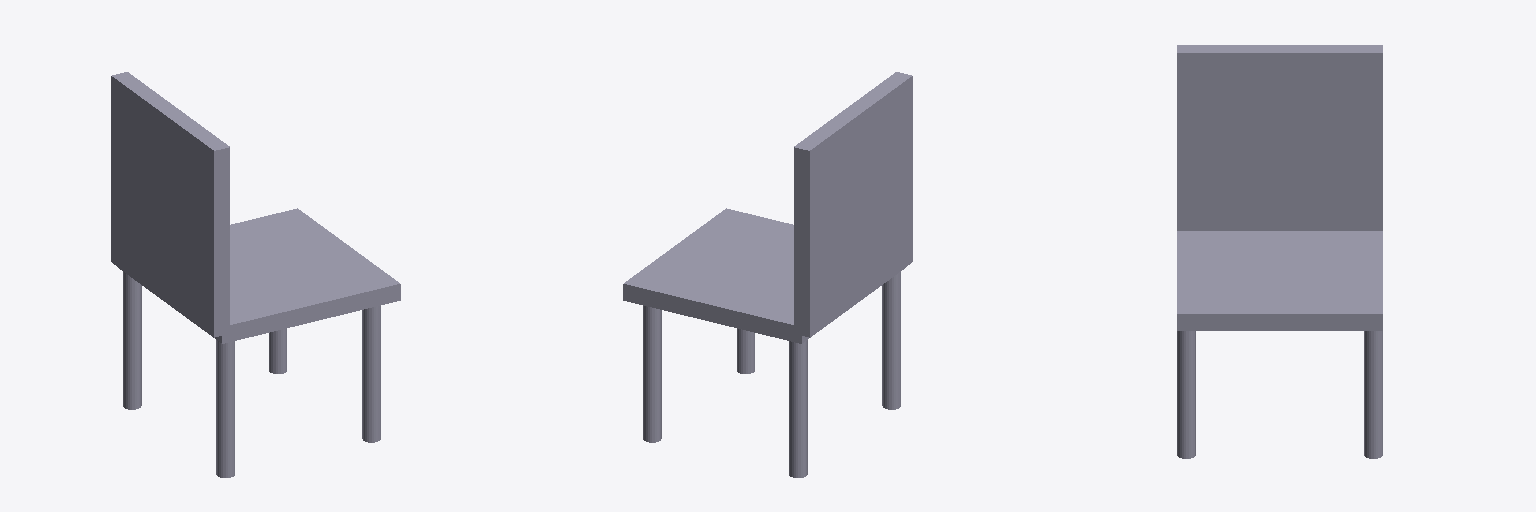
Rendered from chair.obj.
The picture shows the model from 3 angles: view 1: azimuth 30°, elevation 25°; view 2: azimuth 150°, elevation 25°; view 3: azimuth 270°, elevation 25°; orthographic projection.
Size of the model in its own units: 1.15 by 1.95 by 1.1.